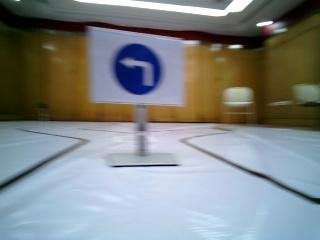left: (93, 32, 182, 108)
